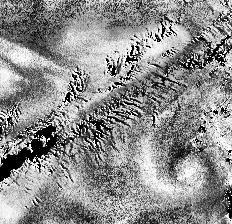CE: (140, 135, 224, 210)
